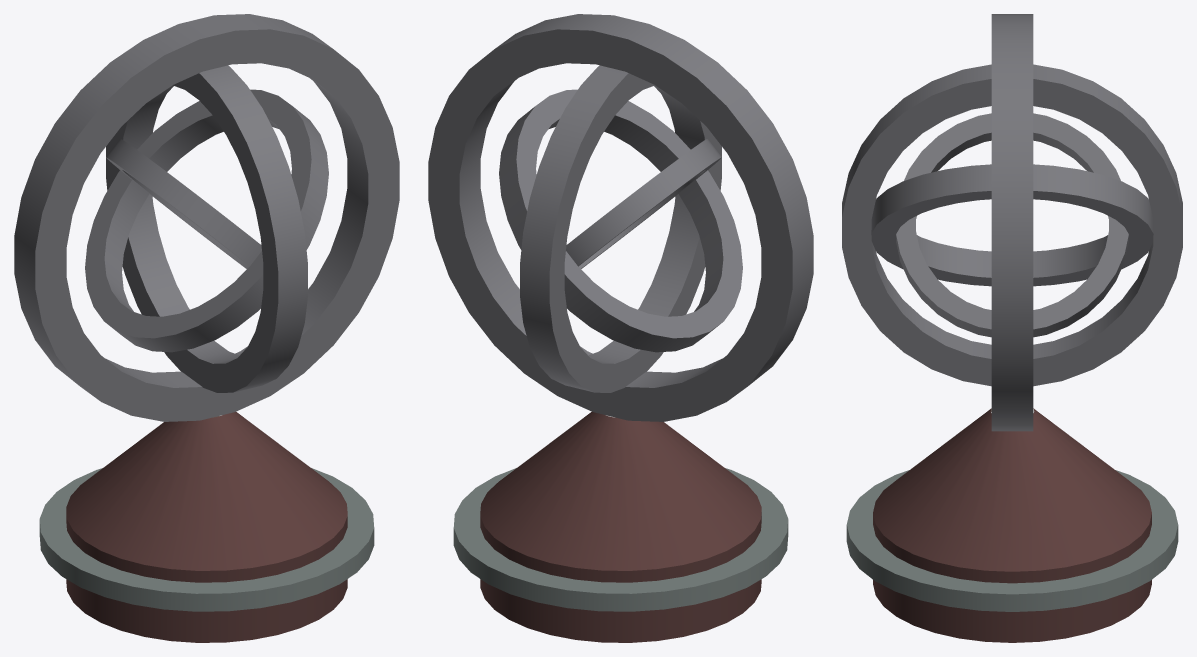
File: Building7.fbx
3 renders of one model, left to right at view 1: azimuth 30°, elevation 25°; view 2: azimuth 150°, elevation 25°; view 3: azimuth 270°, elevation 25°, orthographic.
Parts seen in each view (by area): view 1: RingsStatue; view 2: RingsStatue; view 3: RingsStatue.
Part boxes in pixels (left/top/right/bottom): RingsStatue: left=14, top=14, right=399, bottom=642; RingsStatue: left=428, top=14, right=813, bottom=642; RingsStatue: left=842, top=14, right=1182, bottom=642.
Bounding box in the file's own units: 697 × 1017 × 571.
Materials: 1 (1 with a texture image).
